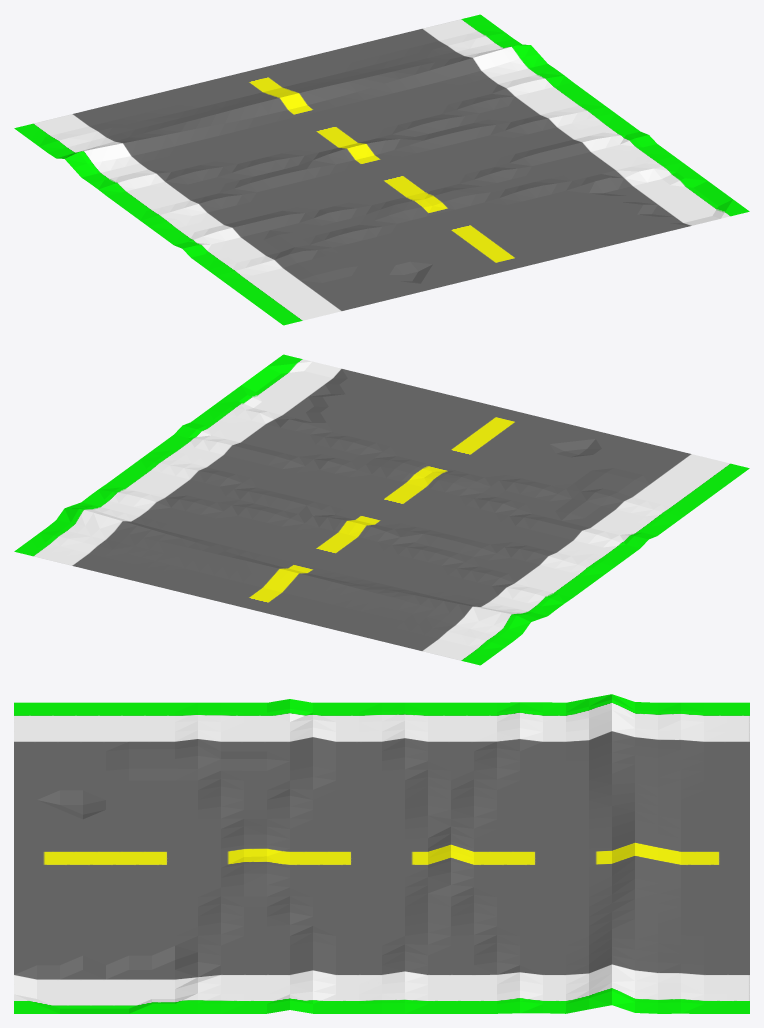
File: terrain.dae
3 renders of one model, top to bottom at view 1: azimuth 30°, elevation 25°; view 2: azimuth 150°, elevation 25°; view 3: azimuth 270°, elevation 25°, orthographic. The views are drawn at different scales.
Parts seen in each view (by area): view 1: Plane; view 2: Plane; view 3: Plane.
Boxes of the visible parts, x1,y1,x2,y2 form: Plane: (14, 14, 749, 325); Plane: (14, 354, 749, 665); Plane: (14, 694, 749, 1013).
Bounding box in the file's own units: 4.88 × 4.88 × 0.1324.
1 material, 1 textured.
